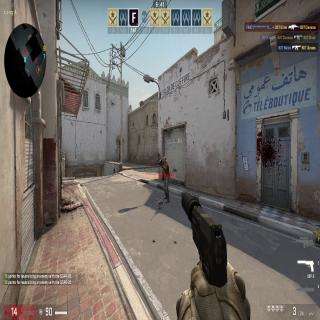CT-Body: (162, 156, 170, 202)
CT-Head: (164, 157, 166, 163)
